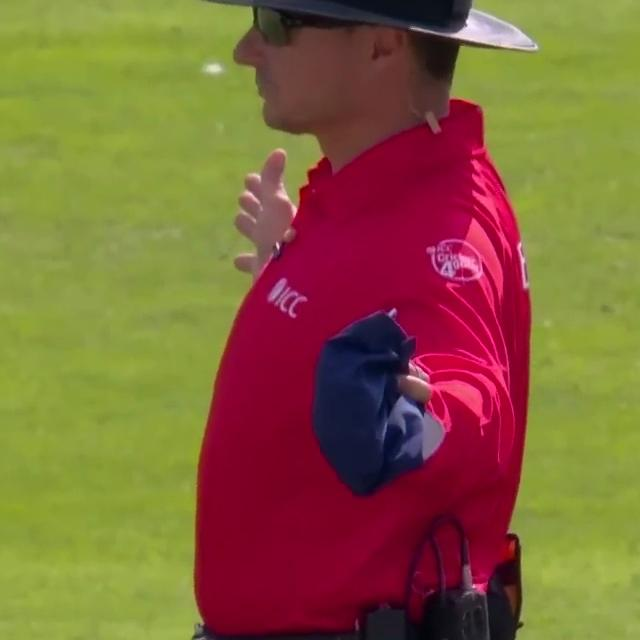umpire: (111, 0, 591, 640)
